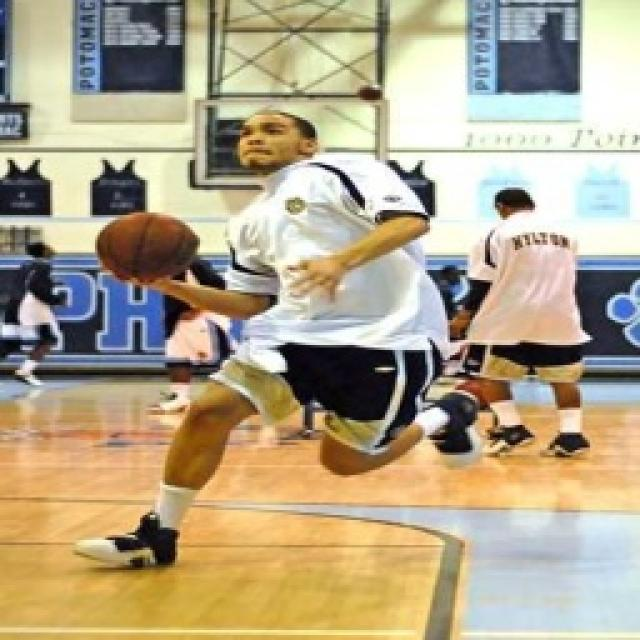basketball: (99, 213, 201, 284)
